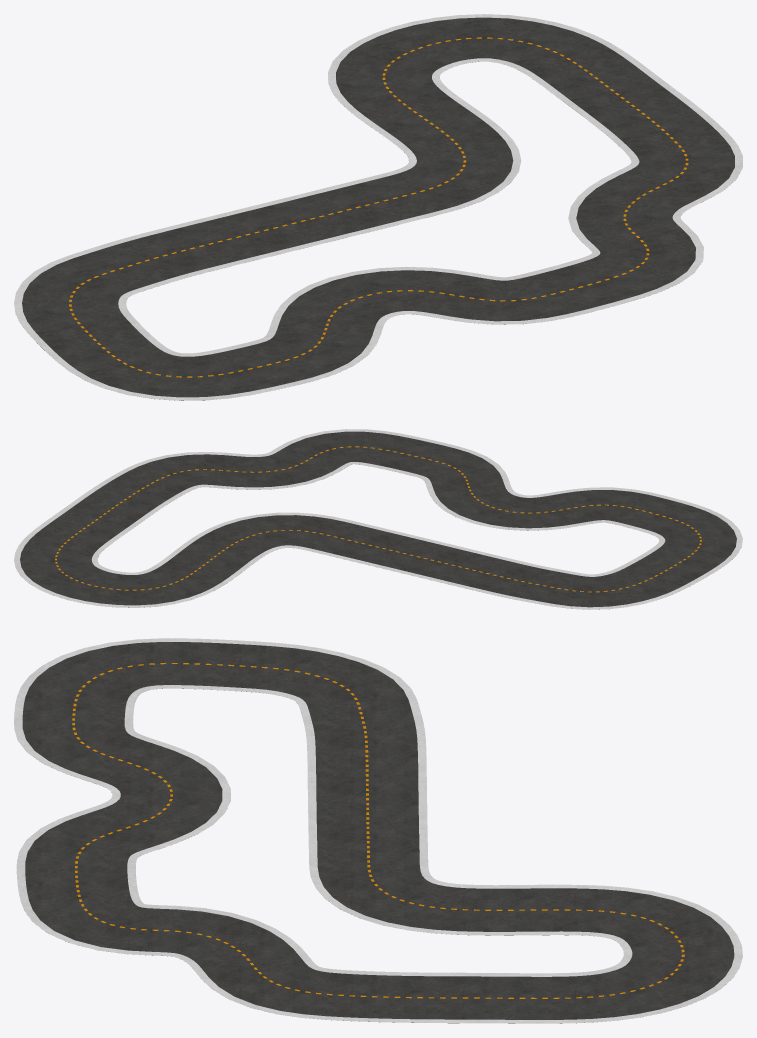
File: Re_Invent_track_road.dae
3 views of the same model, one above another, from view 1: azimuth 30°, elevation 25°; view 2: azimuth 150°, elevation 25°; view 3: azimuth 270°, elevation 25° (orthographic). The views are drawn at different scales.
Parts seen in each view (by area): view 1: road, ol, il, cl; view 2: road, ol, il, cl; view 3: road, ol, il, cl.
Boxes of the visible parts, x1,y1,x2,y2 form: road: (22,17,734,400); ol: (14,14,742,400); il: (118,58,639,356); cl: (69,37,688,377); road: (20,431,736,609); ol: (14,429,742,609); il: (91,462,665,576); cl: (55,446,701,592); road: (22,642,734,1023); ol: (14,638,742,1023); il: (124,685,632,976); cl: (72,663,684,998).
Size of the model in its own units: 8.16 by 6.53 by 0.0005.
Materials: 4 (4 with a texture image).
